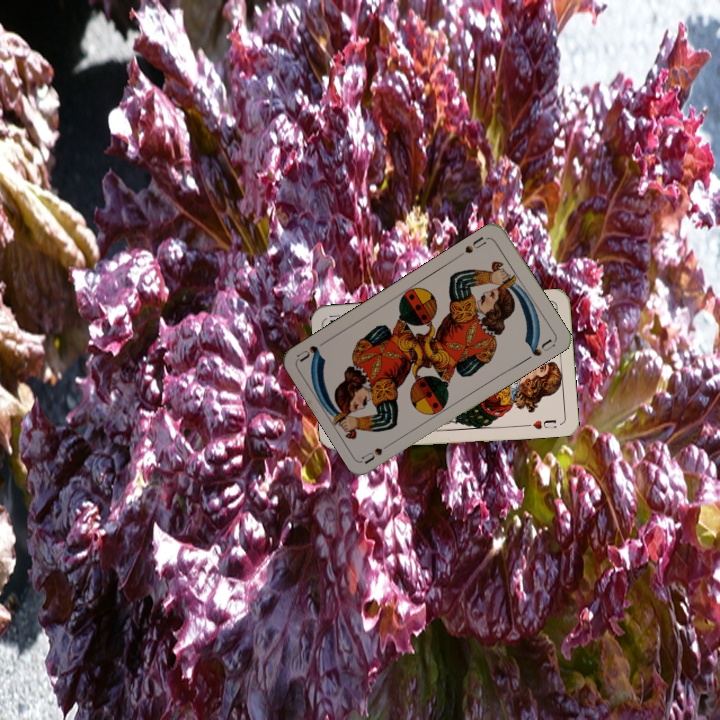SU: (358, 437, 397, 466), (454, 232, 491, 259)
